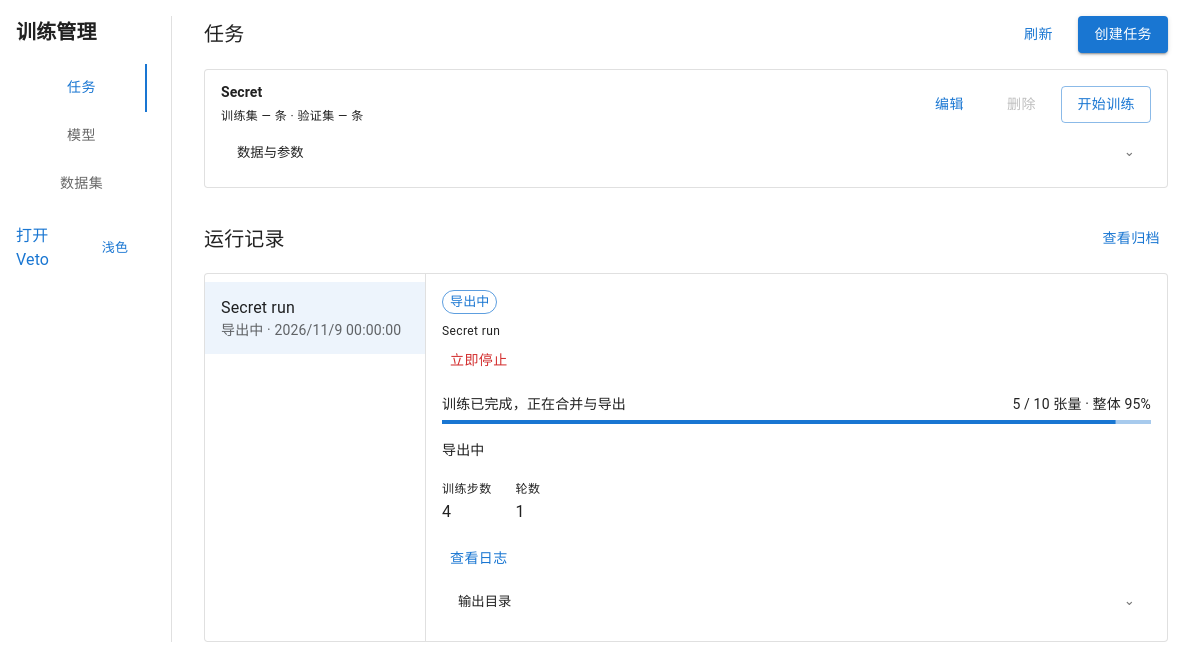
export has a separate stage and only completion shows overall 100 percent
The width and height of the screenshot is (1186, 659).
Expected: the text "5 / 10 张量 · 整体 95%" is shown, 1012,394 -> 1151,414
Expected: the text "训练已完成，正在合并与导出" is shown, 442,394 -> 626,414
Click the button "刷新" at (1038, 34), box 1006,16 -> 1070,52
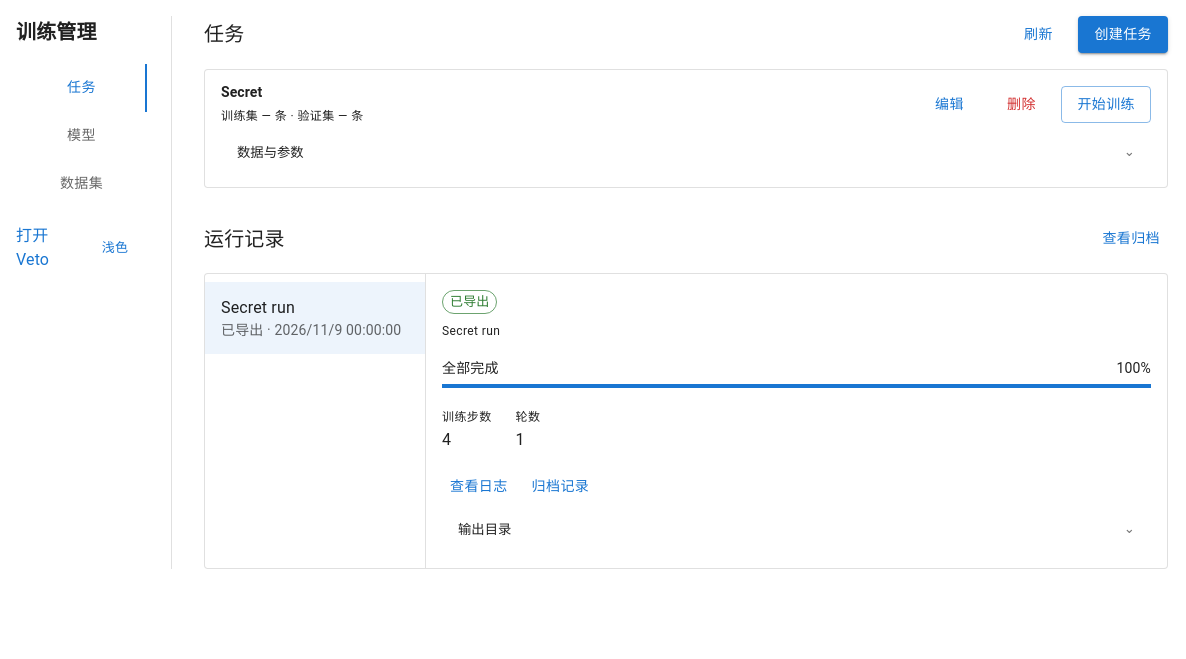
Now the text "全部完成" is shown, box 442,358 -> 499,378
Now the text "100%" is shown, box 1116,358 -> 1151,378
